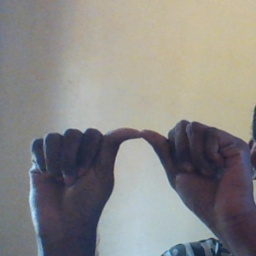A: (28, 116, 255, 241)
